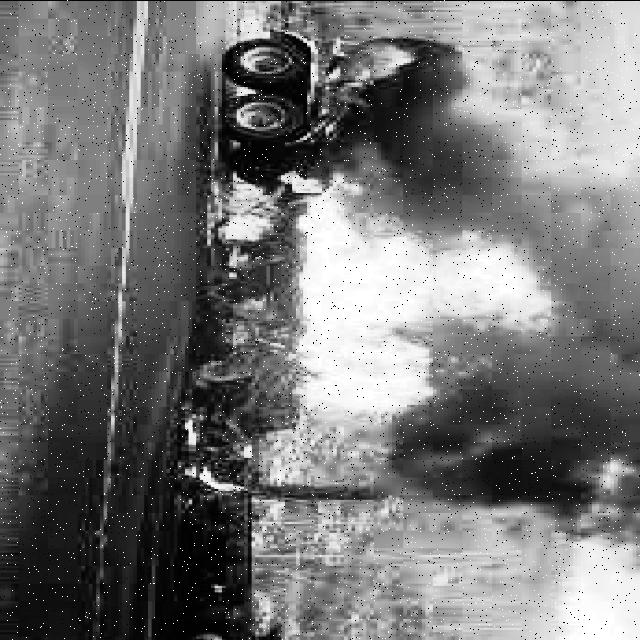api: (279, 184, 549, 412)
